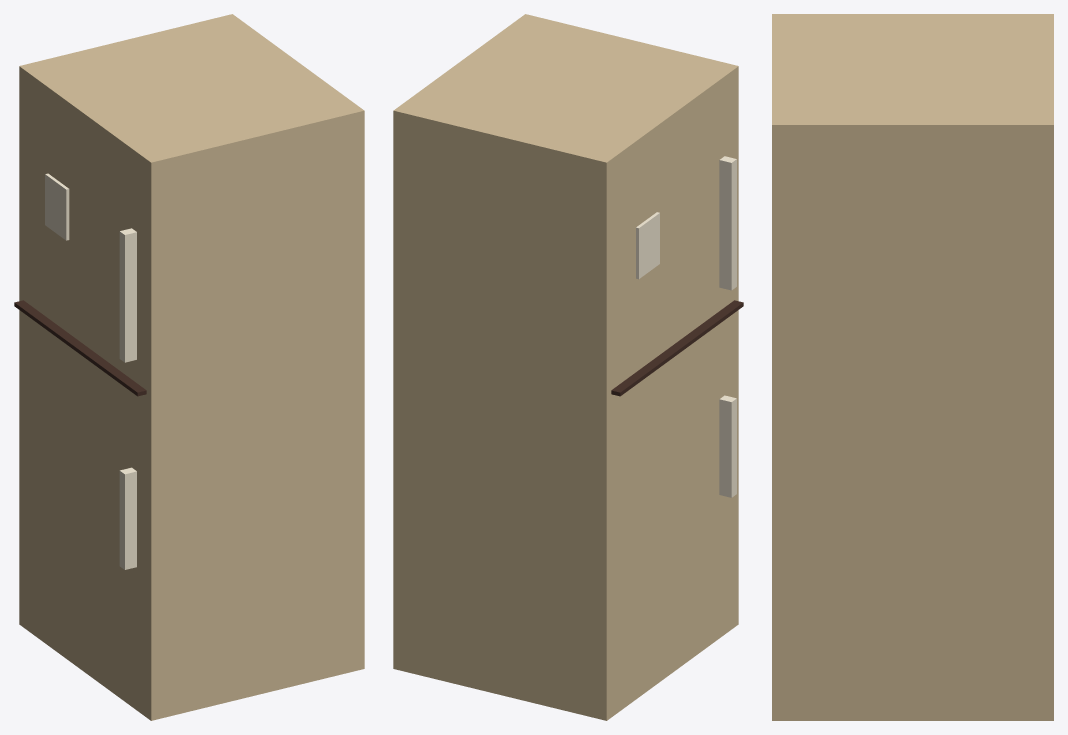
File: fridge.glb
The picture shows the model from 3 angles, left to right: view 1: azimuth 30°, elevation 25°; view 2: azimuth 150°, elevation 25°; view 3: azimuth 270°, elevation 25°; orthographic projection. The views are drawn at different scales.
Visible parts, largest first — view 1: Box1, Box2, Box3, Box4, Box5; view 2: Box1, Box2, Box3, Box4, Box5; view 3: Box1.
Boxes of the visible parts, box(x1,y1,x2,y2) form: Box1: box(19, 14, 364, 720); Box2: box(119, 228, 136, 362); Box3: box(119, 467, 136, 569); Box4: box(14, 300, 146, 396); Box5: box(45, 173, 69, 240); Box1: box(393, 14, 738, 720); Box2: box(719, 156, 736, 290); Box3: box(719, 395, 736, 497); Box4: box(611, 300, 743, 396); Box5: box(636, 212, 659, 279); Box1: box(772, 14, 1053, 720).
Size of the model in its own units: 0.74 by 1.75 by 0.75.
